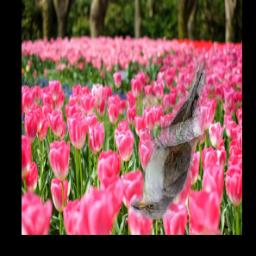Cuckoo: (132, 60, 209, 221)
